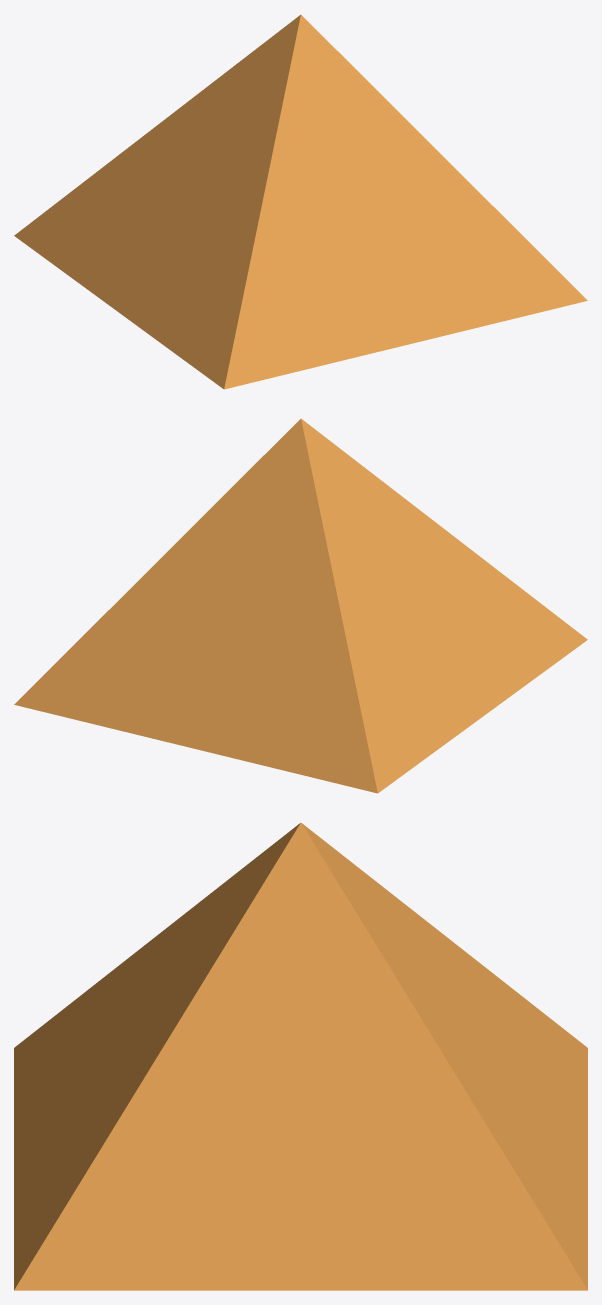
The picture shows the model from 3 angles, top to bottom: view 1: azimuth 30°, elevation 25°; view 2: azimuth 150°, elevation 25°; view 3: azimuth 270°, elevation 25°; orthographic projection. The views are drawn at different scales.
Visible parts, largest first — view 1: Cube; view 2: Cube; view 3: Cube.
Part boxes in pixels (x1,y1,x2,y2): Cube: (14, 14, 587, 389); Cube: (14, 418, 587, 793); Cube: (14, 823, 587, 1290).
Size of the model in its own units: 300 by 200 by 300.
